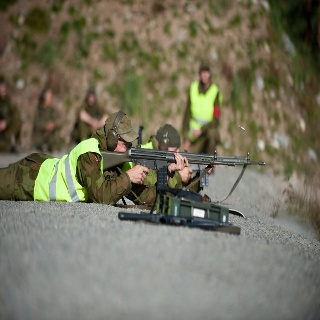rifle: (100, 144, 266, 191), (118, 208, 234, 233)
